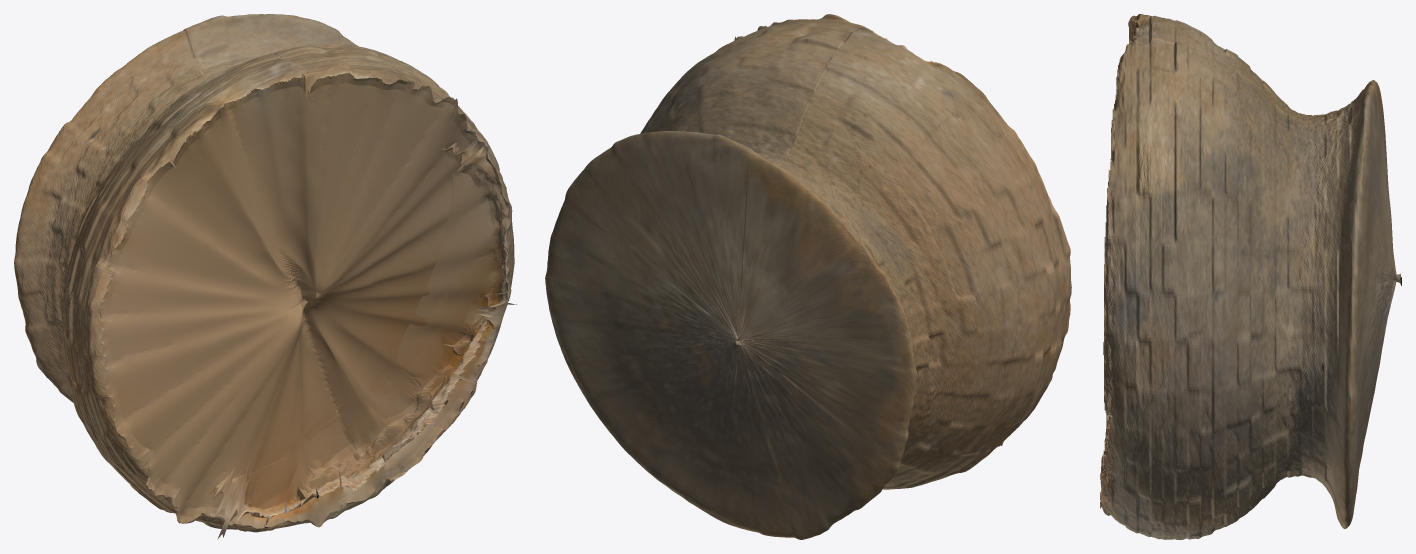
Rendered from mesh_inpaint.glb.
The picture shows the model from 3 angles, left to right: view 1: azimuth 30°, elevation 25°; view 2: azimuth 150°, elevation 25°; view 3: azimuth 270°, elevation 25°; orthographic projection. The views are drawn at different scales.
Visible parts, largest first — view 1: fill, ipn; view 2: ipn; view 3: ipn, fill.
Boxes of the visible parts, x1,y1,x2,y2 form: fill: (100,73,509,528); ipn: (14,14,516,539); ipn: (545,14,1071,539); ipn: (1100,14,1401,539); fill: (1100,20,1400,508).
Size of the model in its own units: 1.96 by 1.96 by 1.13.
2 materials, 1 textured.
